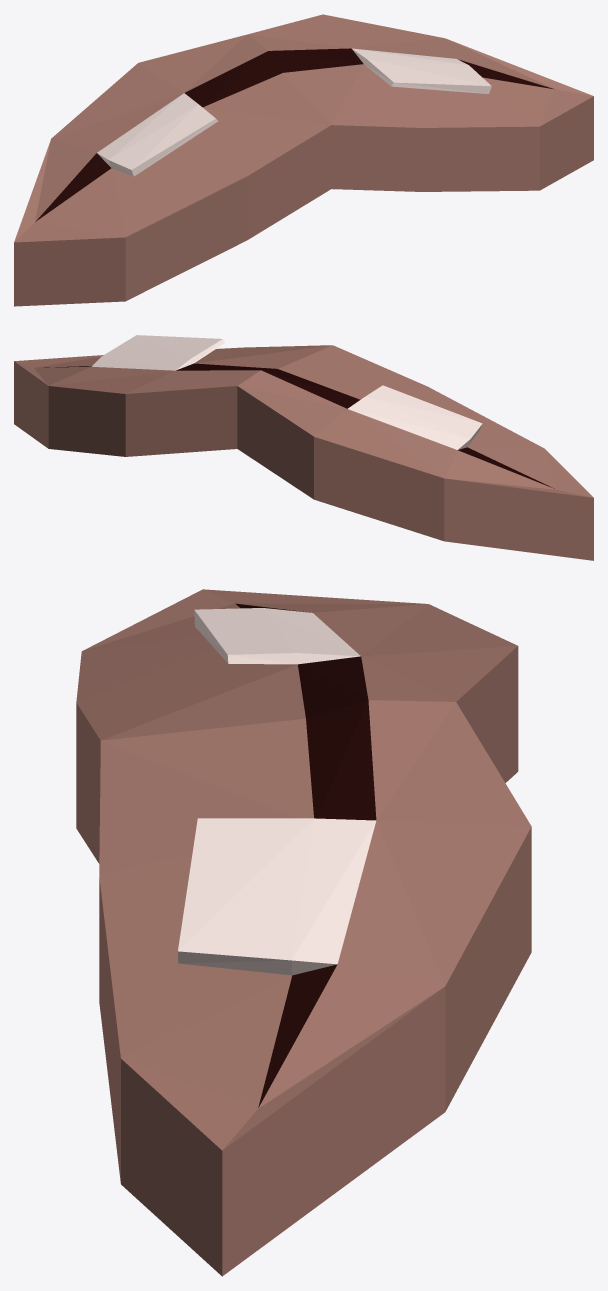
Rendered from Mouth 08.FBX.
3 views of the same model, one above another, from view 1: azimuth 30°, elevation 25°; view 2: azimuth 150°, elevation 25°; view 3: azimuth 270°, elevation 25° (orthographic). The views are drawn at different scales.
Visible parts, largest first — view 1: Mouth 08; view 2: Mouth 08; view 3: Mouth 08.
Boxes of the visible parts, box(x1,y1,x2,y2) form: Mouth 08: box(14, 14, 593, 306); Mouth 08: box(14, 335, 593, 560); Mouth 08: box(76, 589, 531, 1276).
Bounding box in the file's own units: 7.86 × 2.69 × 1.96.
1 material, 1 textured.
